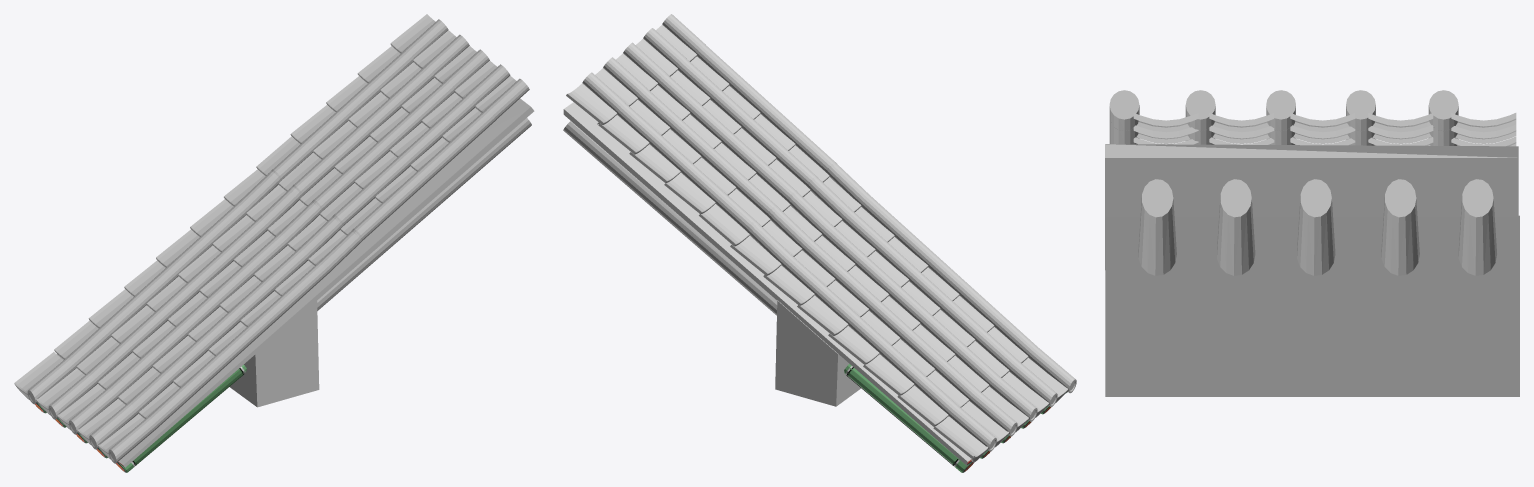
File: SM_Roof_13.fbx
The picture shows the model from 3 angles, left to right: view 1: azimuth 30°, elevation 25°; view 2: azimuth 150°, elevation 25°; view 3: azimuth 270°, elevation 25°; orthographic projection. The views are drawn at different scales.
Visible parts, largest first — view 1: SM_Roof_13_LOD0; view 2: SM_Roof_13_LOD0; view 3: SM_Roof_13_LOD0.
Part boxes in pixels (bbox=[...]): SM_Roof_13_LOD0: bbox=[14, 14, 534, 472]; SM_Roof_13_LOD0: bbox=[563, 14, 1076, 472]; SM_Roof_13_LOD0: bbox=[1105, 90, 1519, 396].
Size of the model in its own units: 495 by 211 by 336.
